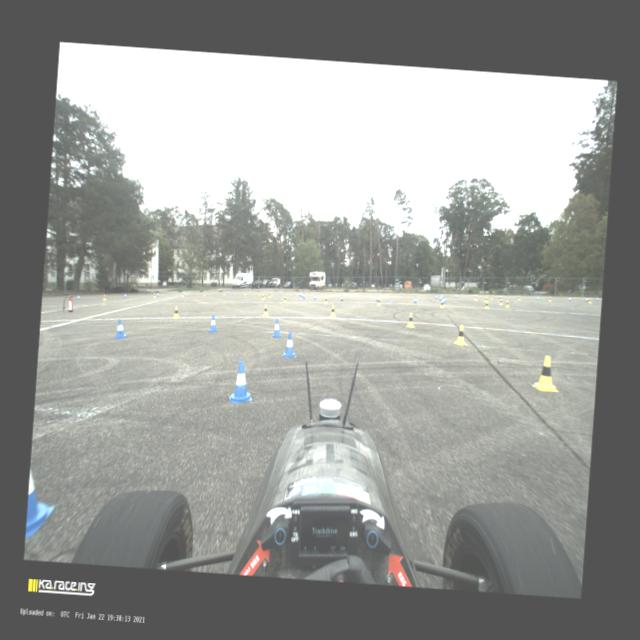blue_cone: (25, 468, 57, 540), (228, 360, 254, 404), (280, 332, 298, 358), (114, 318, 127, 338), (272, 318, 282, 338), (208, 315, 218, 332), (412, 296, 418, 304), (312, 294, 316, 300), (340, 294, 343, 301), (375, 295, 378, 302), (76, 294, 80, 299), (302, 294, 306, 299), (434, 294, 438, 299), (568, 296, 572, 301), (293, 290, 296, 296), (443, 296, 446, 302), (442, 298, 445, 304), (536, 294, 539, 300), (156, 292, 160, 296), (123, 293, 126, 298), (498, 294, 501, 299), (585, 296, 588, 301), (439, 296, 442, 300), (454, 294, 457, 298), (596, 296, 598, 302), (278, 290, 280, 295), (298, 291, 300, 296), (301, 292, 303, 297), (473, 293, 475, 298), (183, 292, 185, 296), (226, 290, 228, 294), (248, 290, 250, 294), (264, 290, 266, 294), (300, 292, 302, 296), (440, 294, 442, 298)
yellow_cone: (531, 355, 561, 392), (453, 324, 468, 346), (171, 305, 181, 319), (406, 312, 414, 328), (328, 304, 336, 316), (262, 304, 269, 316), (498, 297, 504, 305), (504, 300, 510, 308), (323, 296, 328, 304), (376, 297, 381, 305), (484, 301, 489, 309), (261, 293, 265, 301), (283, 295, 287, 303), (440, 300, 444, 308), (473, 295, 478, 301), (483, 296, 488, 302), (547, 296, 552, 302), (588, 297, 592, 304), (102, 294, 106, 300), (517, 295, 521, 300), (153, 292, 156, 298), (490, 294, 493, 300), (270, 291, 273, 296), (202, 292, 205, 296), (258, 290, 260, 296), (268, 292, 270, 298), (182, 292, 184, 297), (223, 290, 225, 295), (244, 290, 246, 294)
